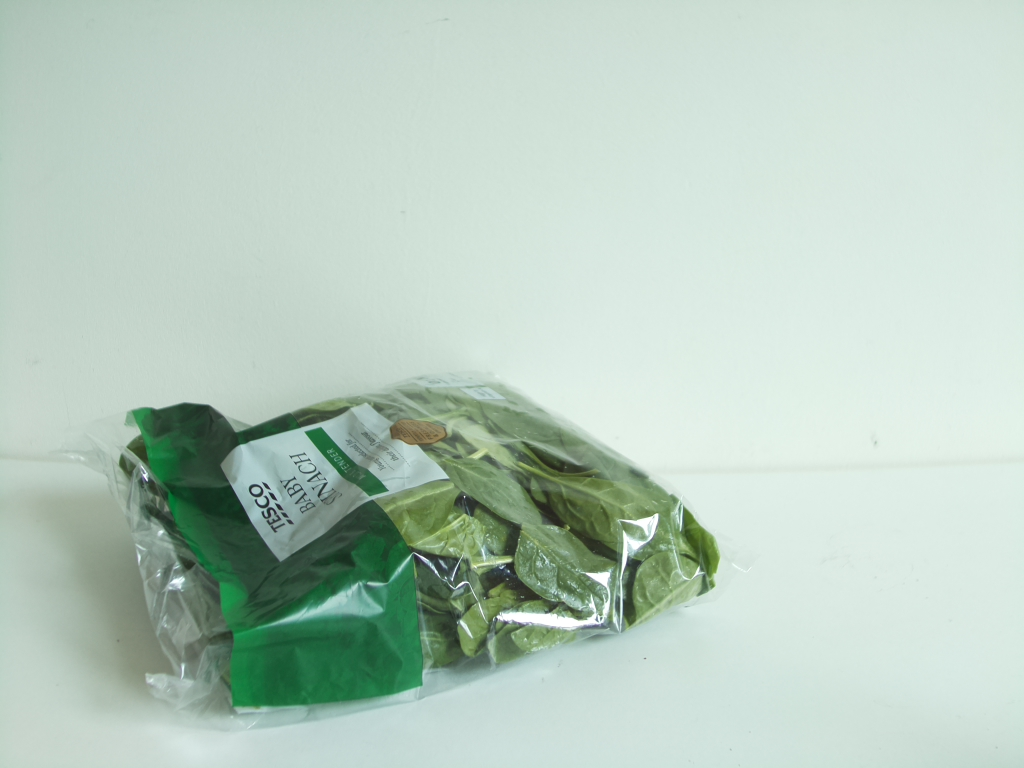salad: (75, 375, 722, 726)
